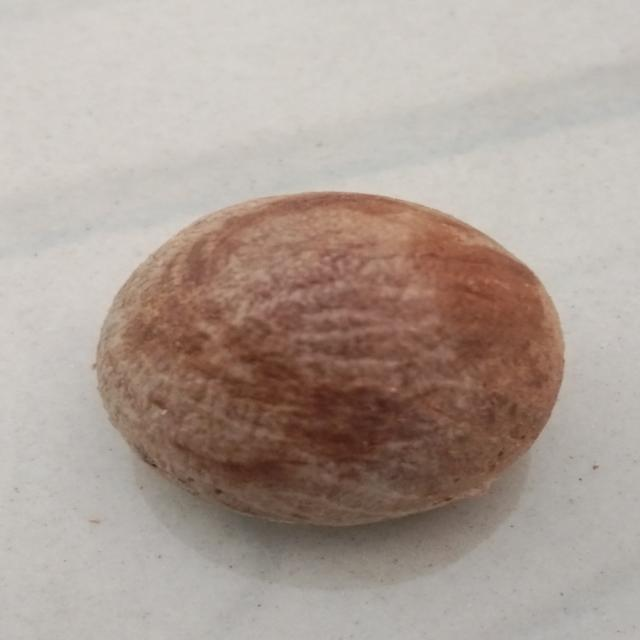good: (75, 174, 578, 548)
